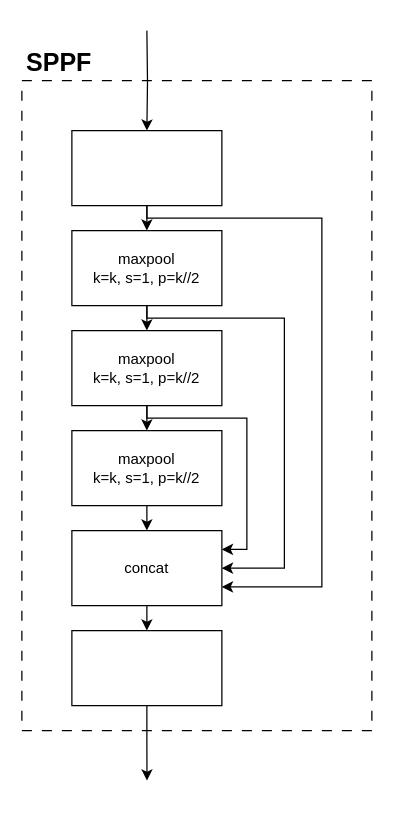
The diagram is 394 pixels wide and 813 high, and some of its shapes have lost their labels. The shapes that lost their labels are listed below. From the top down, each one's centre as x and y in pixels, then its label:
[146,167]: Conv c1=c1, c2=c1//2, k=1, s=1, p=auto
[146,667]: Conv c1=c1//2*4, c2=c2, k=1, s=1, p=auto
